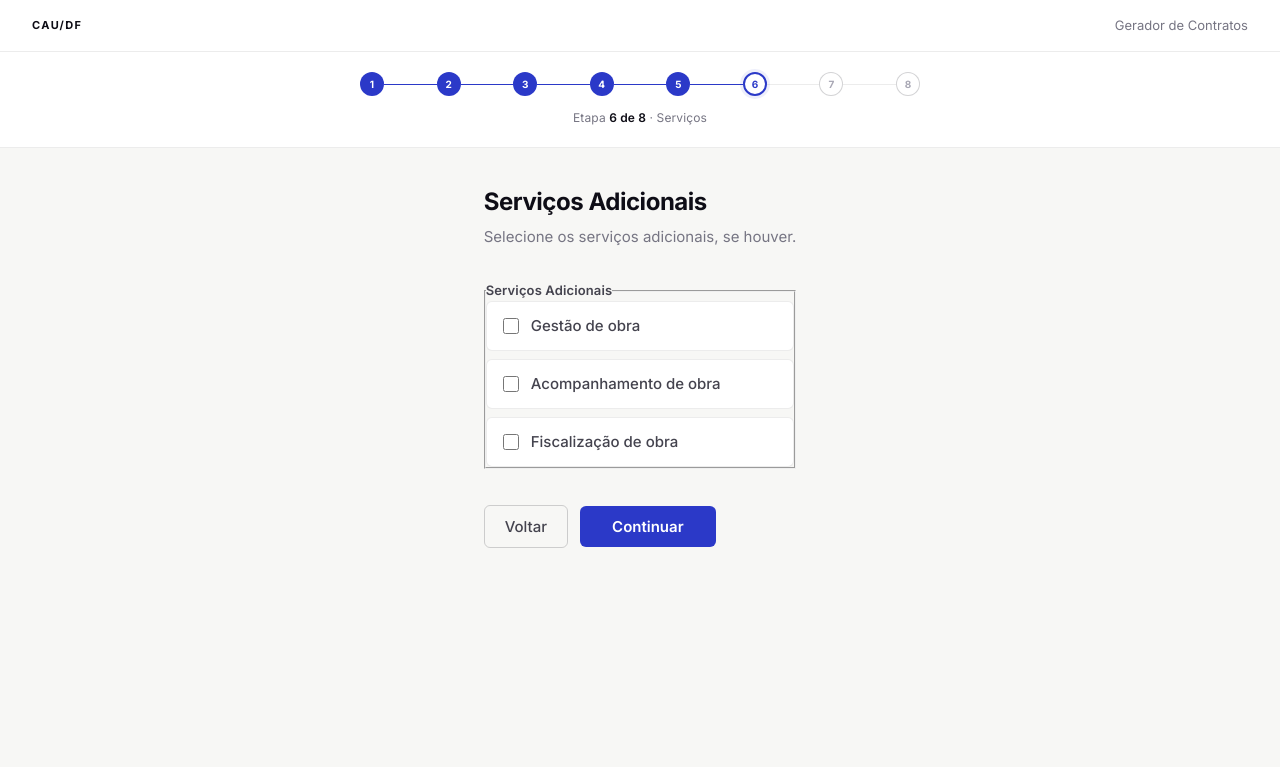
Scenario: AdditionalServicesPage › description field and alert hide when all services are unchecked
The width and height of the screenshot is (1280, 767).
Click the checkbox labelled "Gestão de obra". click: [511, 326]
box: [503,318,519,334]
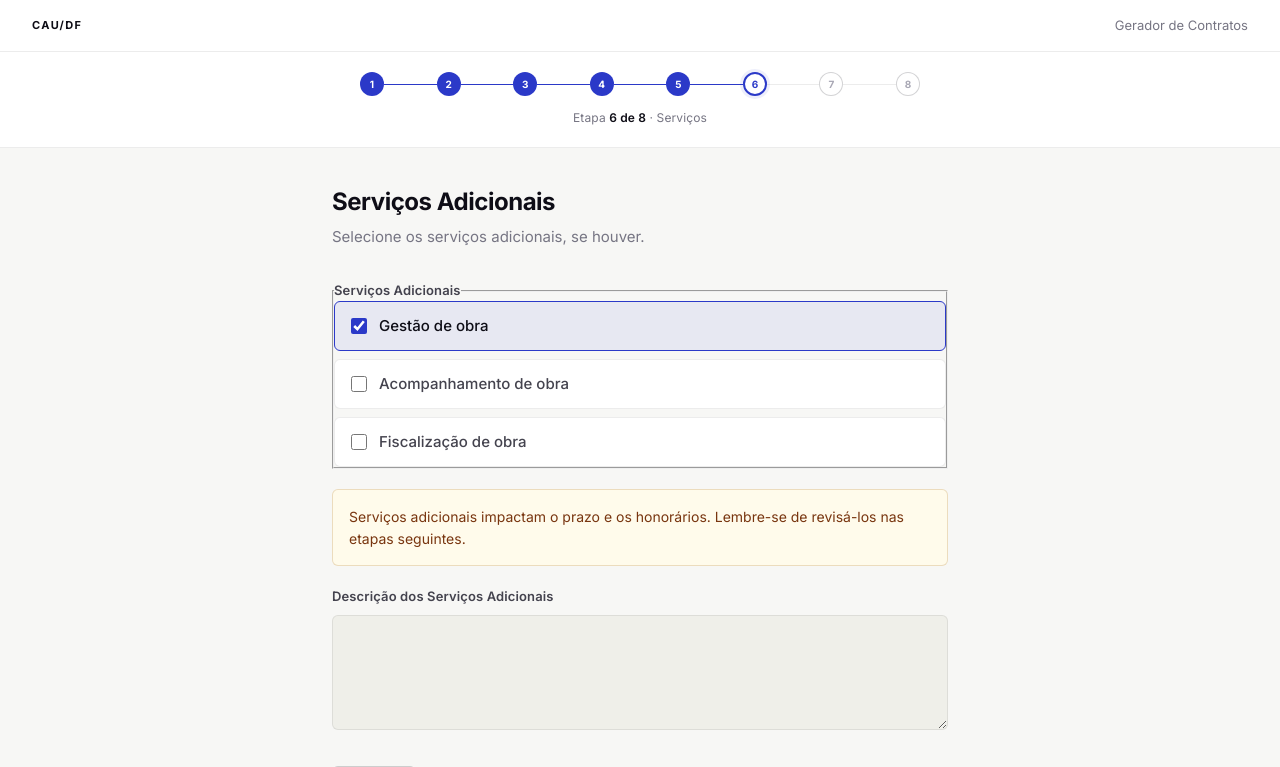
Click the checkbox labelled "Gestão de obra". click: [359, 326]
box: [351,318,367,334]
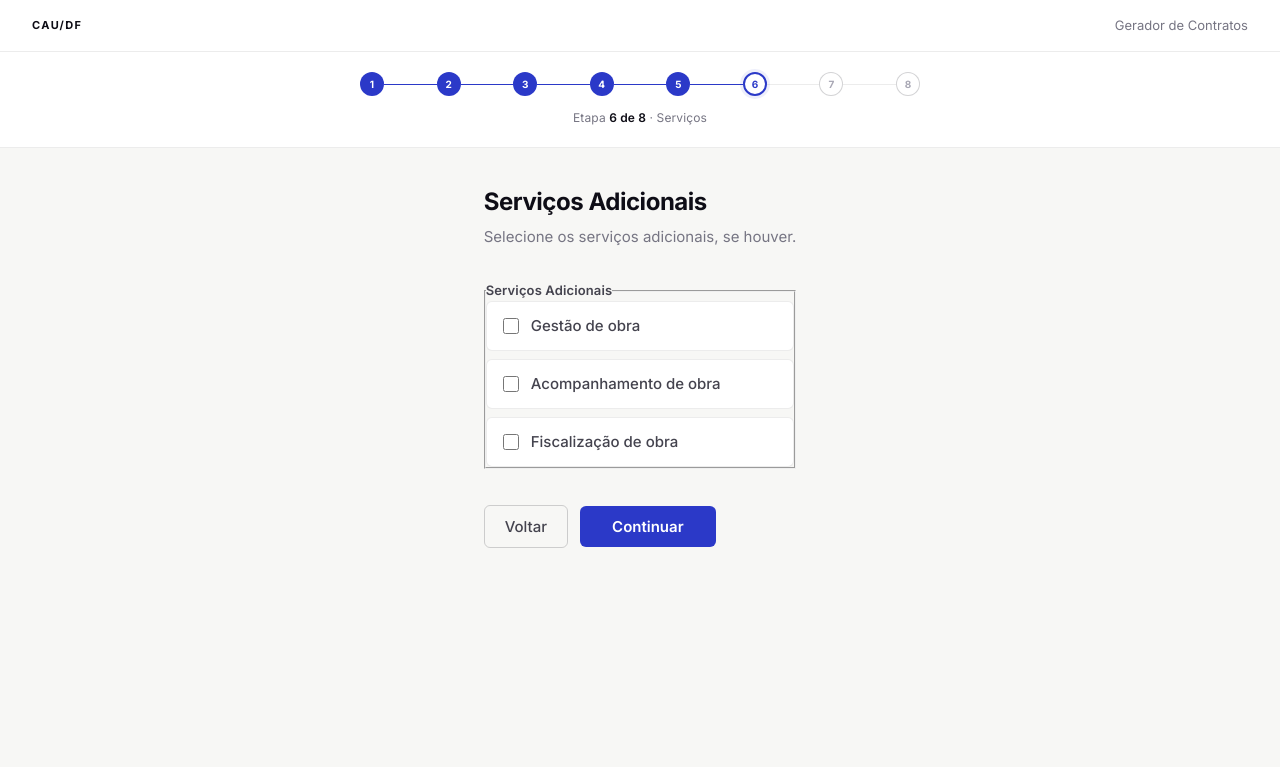
Expected: the label labelled "Descrição dos Serviços Adicionais" is gone
Expected: the text "Serviços adicionais impactam o prazo" is gone
